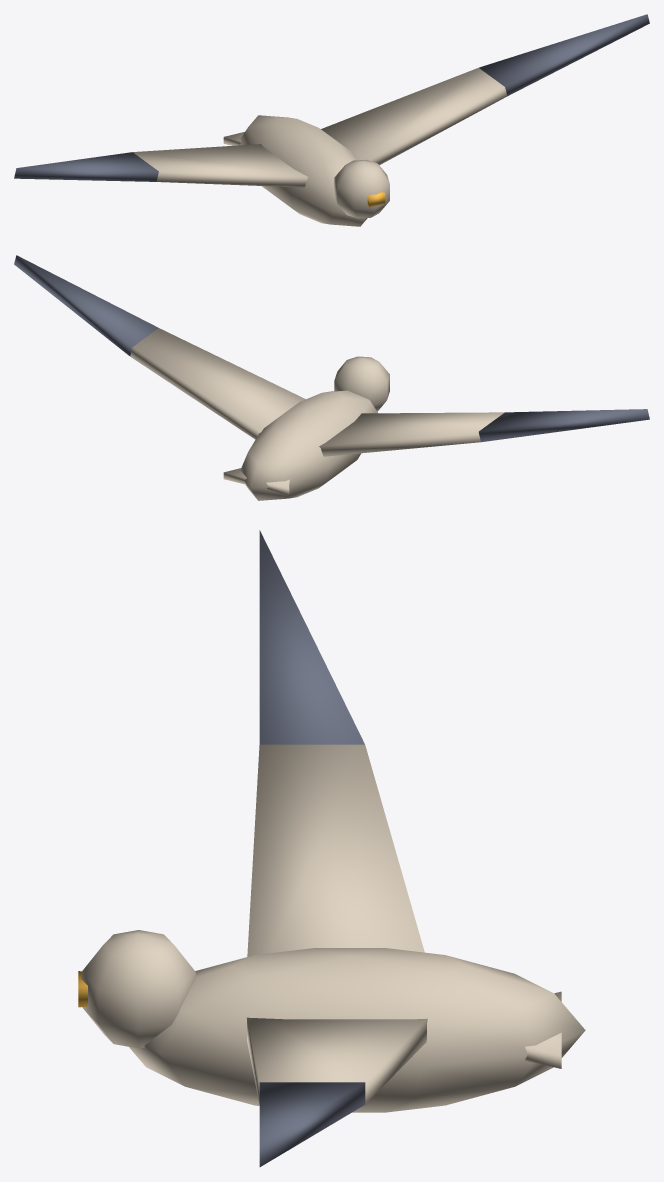
Rendered from cove_gull.glb.
3 renders of one model, top to bottom at view 1: azimuth 30°, elevation 25°; view 2: azimuth 150°, elevation 25°; view 3: azimuth 270°, elevation 25°, orthographic. The views are drawn at different scales.
Parts seen in each view (by area): view 1: Gull; view 2: Gull; view 3: Gull.
Part boxes in pixels (x1=…): Gull: x1=14, y1=14, x2=649, y2=226; Gull: x1=14, y1=255, x2=649, y2=500; Gull: x1=78, y1=530, x2=585, y2=1166.
Bounding box in the file's own units: 1.95 × 0.3899 × 0.672.
